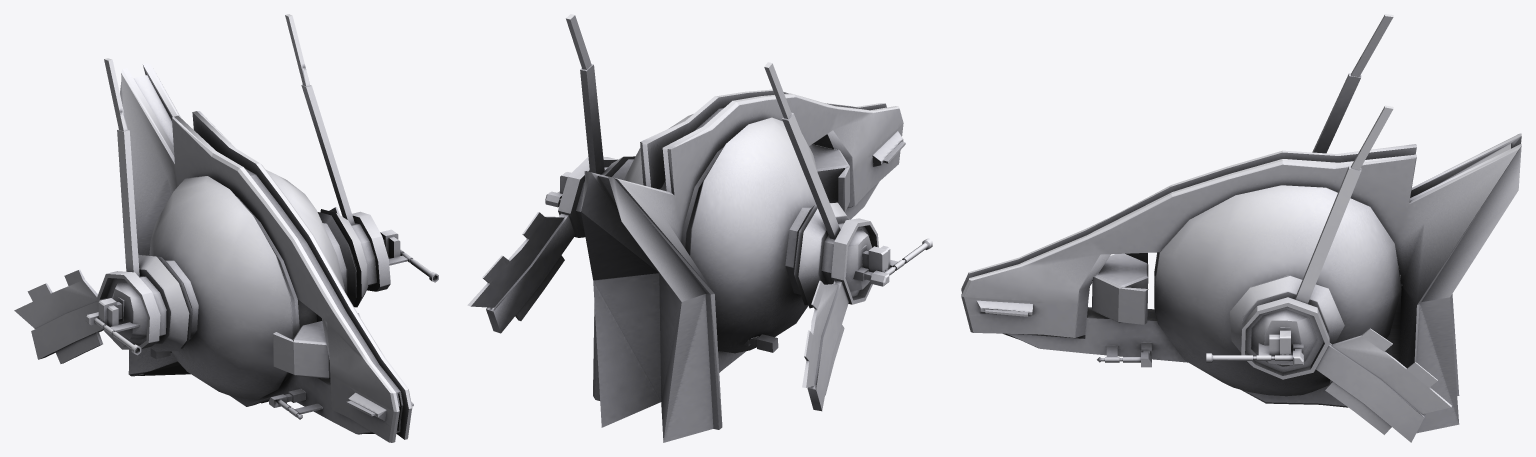
Rendered from probe_laser.FBX.
3 views of the same model, side by side, from view 1: azimuth 30°, elevation 25°; view 2: azimuth 150°, elevation 25°; view 3: azimuth 270°, elevation 25° (orthographic). The views are drawn at different scales.
Parts seen in each view (by area): view 1: probe_laser_1_1; view 2: probe_laser_1_1; view 3: probe_laser_1_1.
Boxes of the visible parts, x1,y1,x2,y2 form: probe_laser_1_1: [14, 14, 438, 442]; probe_laser_1_1: [467, 14, 932, 442]; probe_laser_1_1: [961, 14, 1521, 442].
Size of the model in its own units: 6.34 by 6.56 by 9.53.
